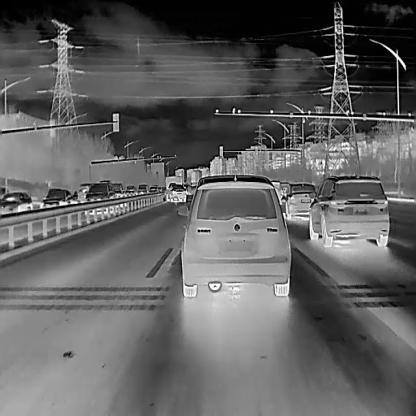car: (176, 174, 290, 297), (308, 176, 389, 246), (282, 181, 315, 219), (0, 191, 35, 213), (42, 187, 79, 207), (84, 180, 113, 202), (169, 184, 186, 202), (112, 183, 125, 197), (126, 184, 137, 196), (138, 184, 148, 195), (149, 186, 157, 194), (158, 185, 163, 191)
